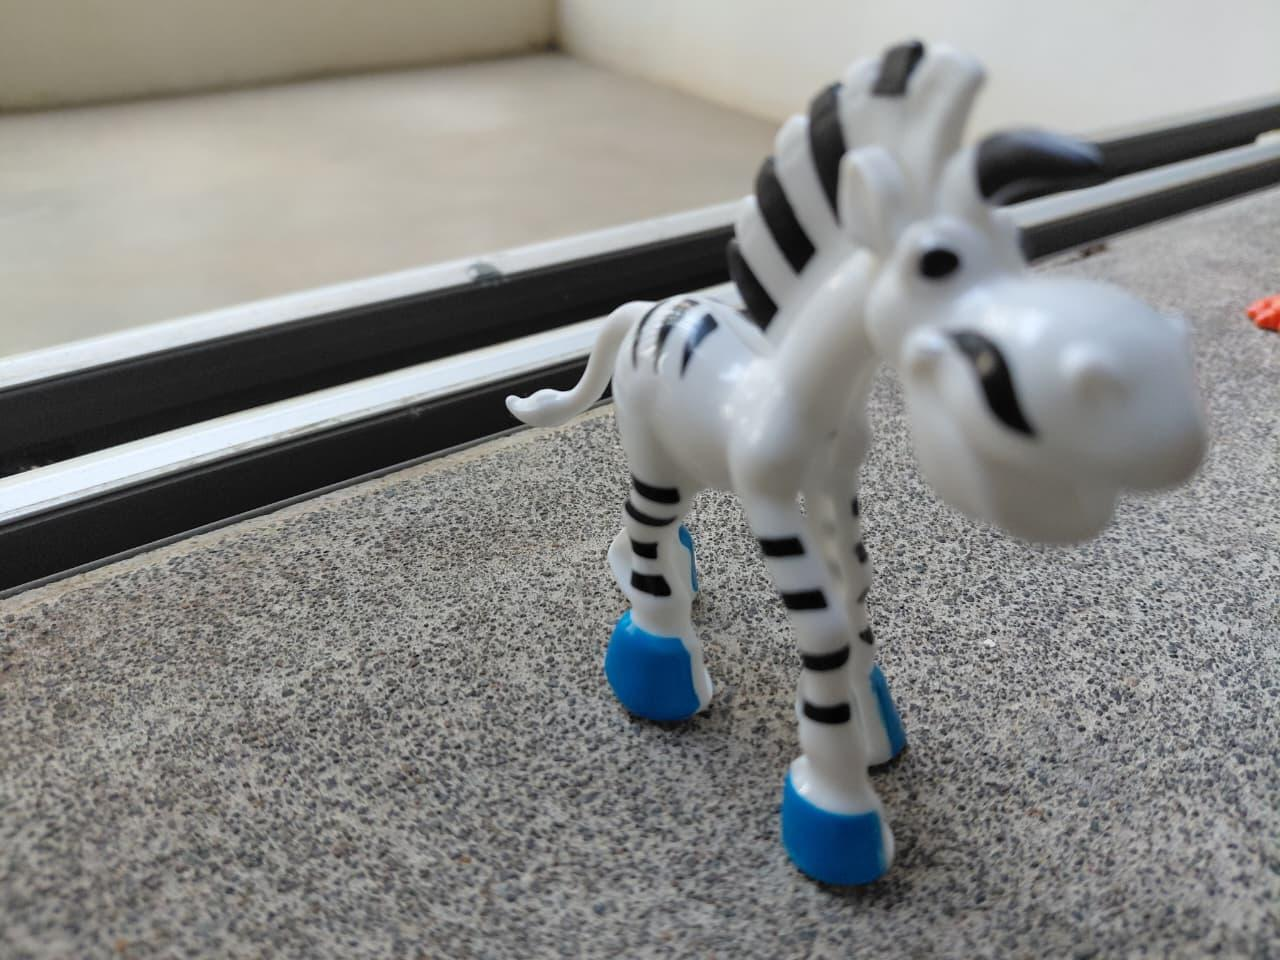zebra: (380, 6, 1243, 929)
